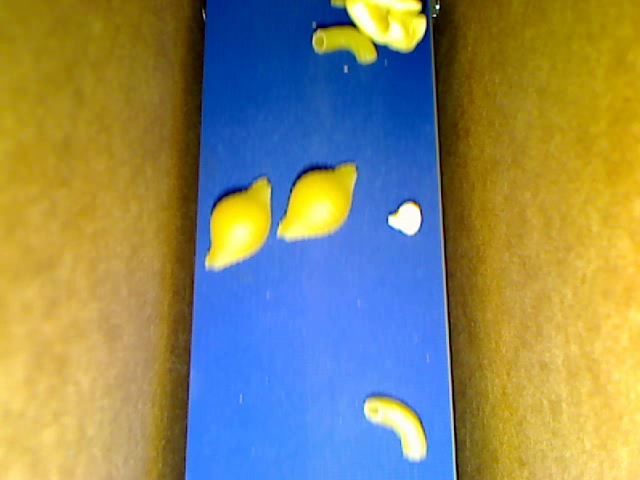elbow: (364, 395, 427, 460), (313, 26, 377, 65)
shell: (276, 161, 356, 241), (205, 176, 272, 271)
tortellini: (345, 1, 427, 54)
